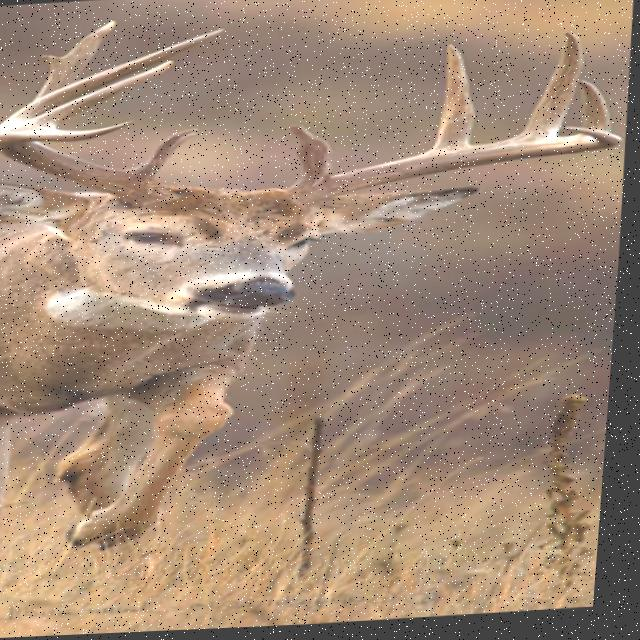L-F: (0, 120, 183, 208)
L-G1: (129, 128, 203, 180)
L-G2: (34, 19, 119, 101)
L-G3: (0, 29, 228, 131)
L-G4: (0, 59, 178, 132)
R-F: (286, 138, 627, 209)
R-G1: (289, 125, 336, 187)
R-G2: (425, 46, 479, 155)
R-G3: (504, 36, 585, 145)
